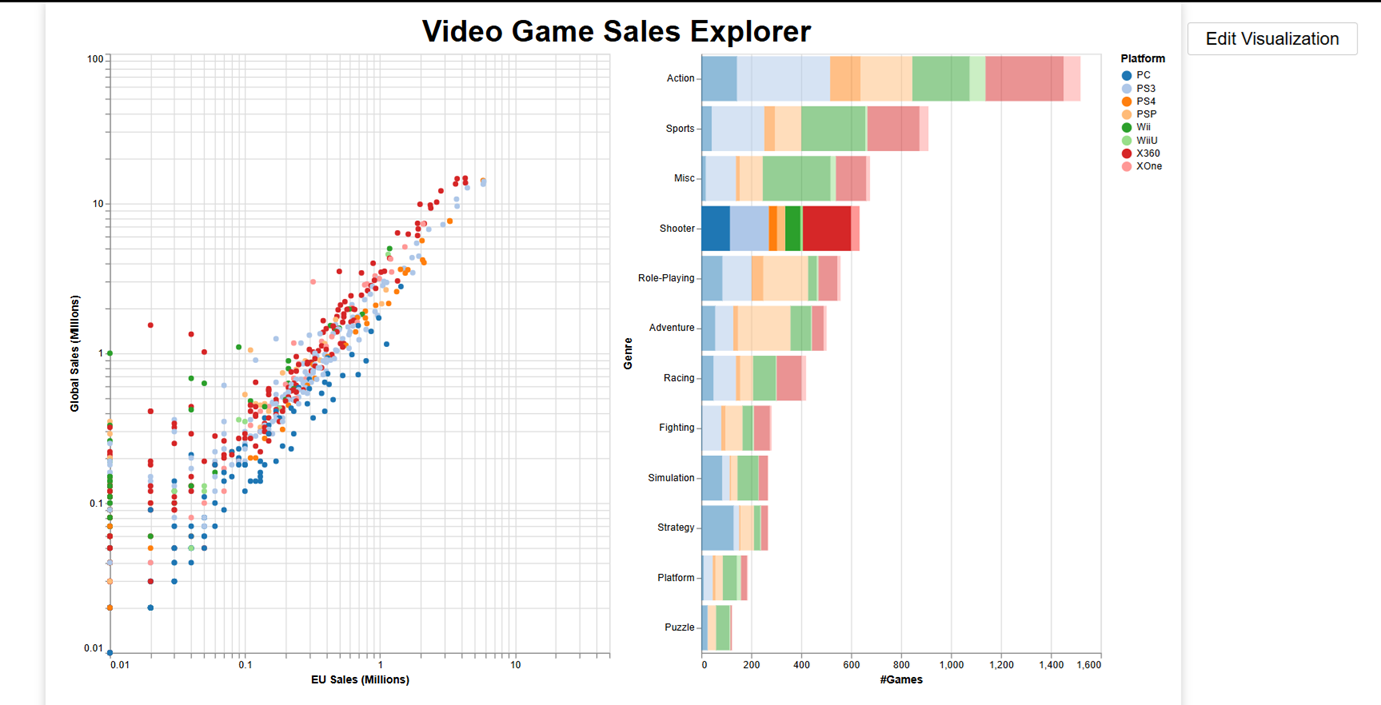

This screenshot's page, from the dashboard's own definition file:
{"tool":"tableau","page":{"name":"Dashboard 1","canvas":[1000,800],"ordinal":0},"visuals":[{"type":"worksheet","title":"Question1","mark":"Automatic","rows":["AIRLINE"],"cols":["Flights2015-2017.csv_F3BB356768574F419D7A1DBCDCA495FA"],"box":[8,8,824,392]},{"type":"highlighter","title":"Question2","param":"[federated.1byvceo1smogyg1e1q0rl0lgcqxq].[none:AIRLINE:nk]","box":[832,8,160,56]},{"type":"worksheet","title":"Question2","mark":"Bar","rows":["AIRLINE"],"cols":["DISTANCE"],"box":[8,400,824,392]}]}

Visuals, with their boxes on the page's 1000x800 design canvas (x1, y1, x2, y2). These are canvas units, not pixel positions in the 1381x705 screenshot, which may show the page scaled, cropped or inside an application window:
"Question1" worksheet: <box>8,8,832,400</box>
"Question2" highlighter: <box>832,8,992,64</box>
"Question2" worksheet (Bar marks): <box>8,400,832,792</box>
